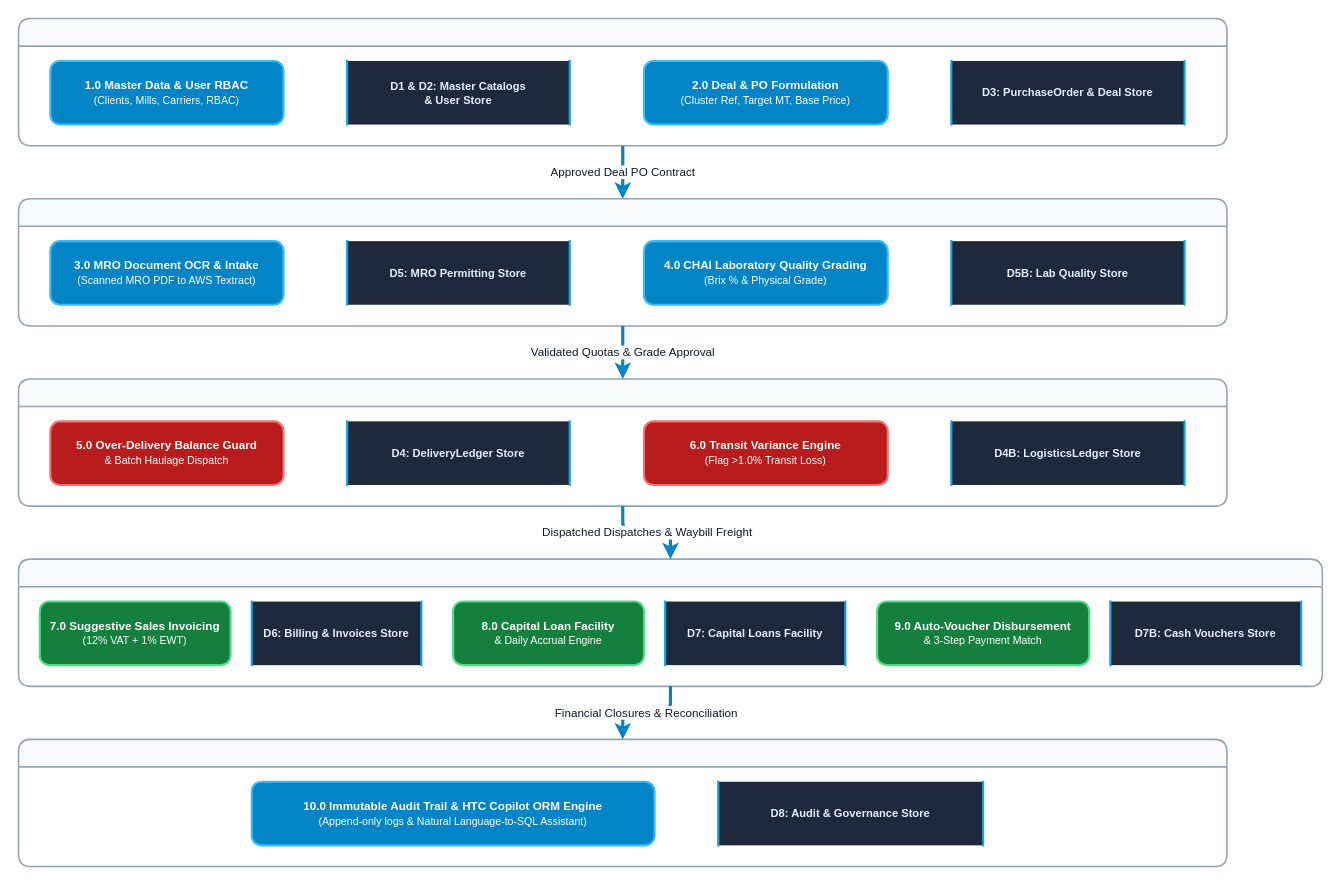
The diagram is 1342 pixels wide and 886 high, and some of its shapes have lost their labels. The box of each missing label's shape, as (x1, y1, x2, y2) in pixels:
1. COMMERCIAL SOURCING & MASTER DATA SETUP: (17, 17, 1227, 146)
2. PERMITTING & LAB QUALITY COMPLIANCE: (17, 197, 1227, 326)
3. MULTI-BATCH LOGISTICS & DISPUTE RESOLUTION: (17, 378, 1227, 506)
4. DYNAMIC TREASURY, INVOICING & SETTLEMENT: (17, 558, 1323, 687)
5. ENTERPRISE GOVERNANCE & AUDIT TRAIL: (17, 738, 1227, 867)
